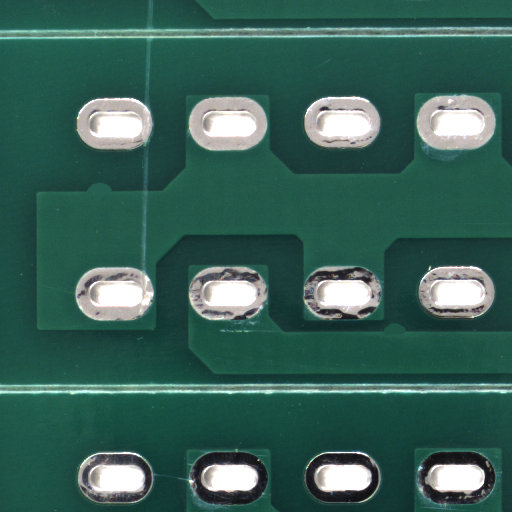Spur: (100, 187, 128, 198), (394, 327, 418, 338)
